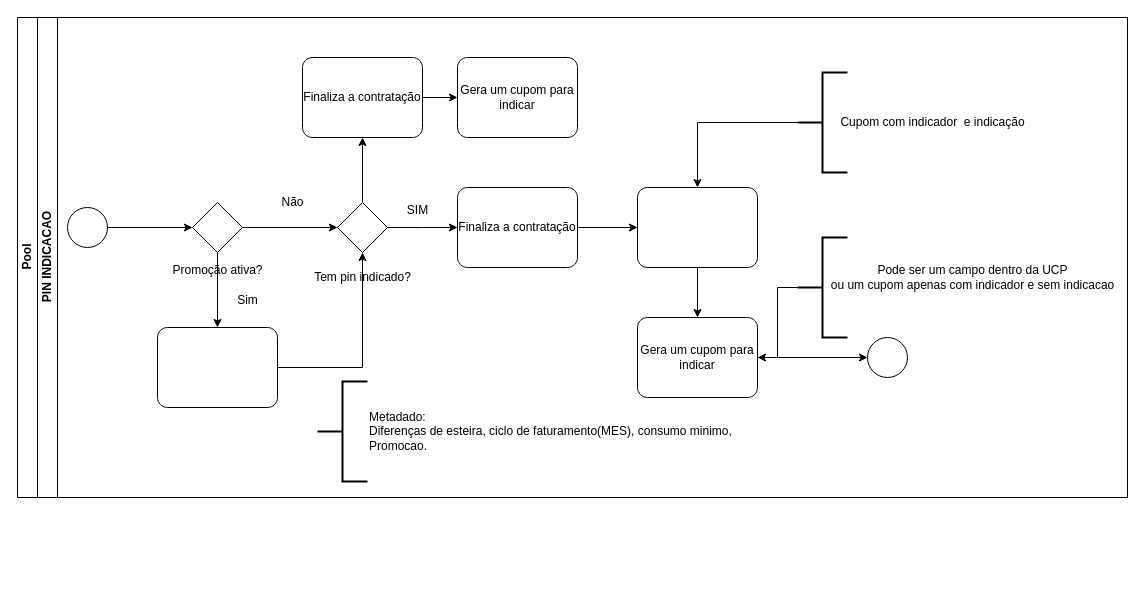
Image size: 1145x603. Some labels were removed from this diagram. Each missing label, with the centre of its shape:
Gera um cupom de indicação: (x=697, y=227)
Marcação da pickList: (x=217, y=367)
